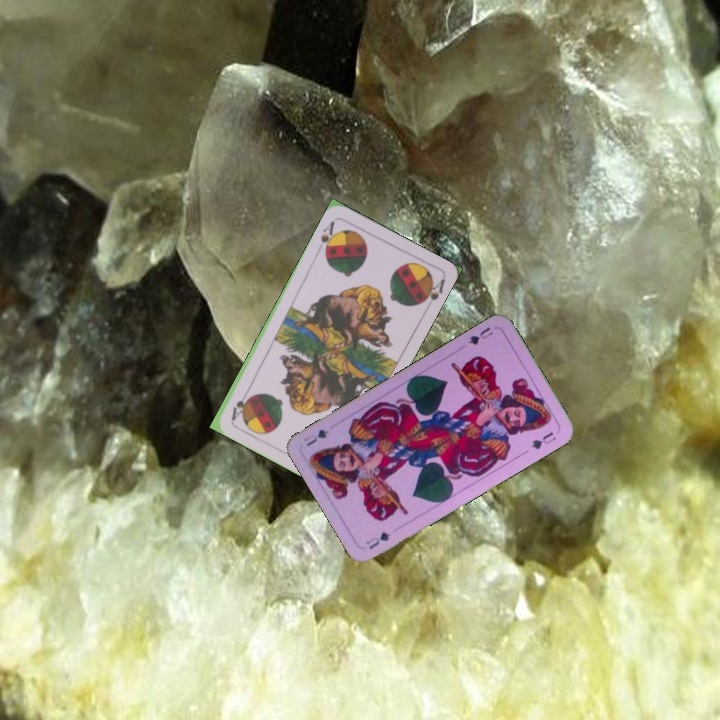GU: (464, 323, 496, 348), (362, 528, 393, 552)
SA: (316, 217, 340, 257)
